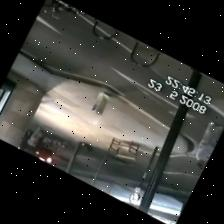person: (196, 121, 223, 167), (28, 126, 41, 146)
